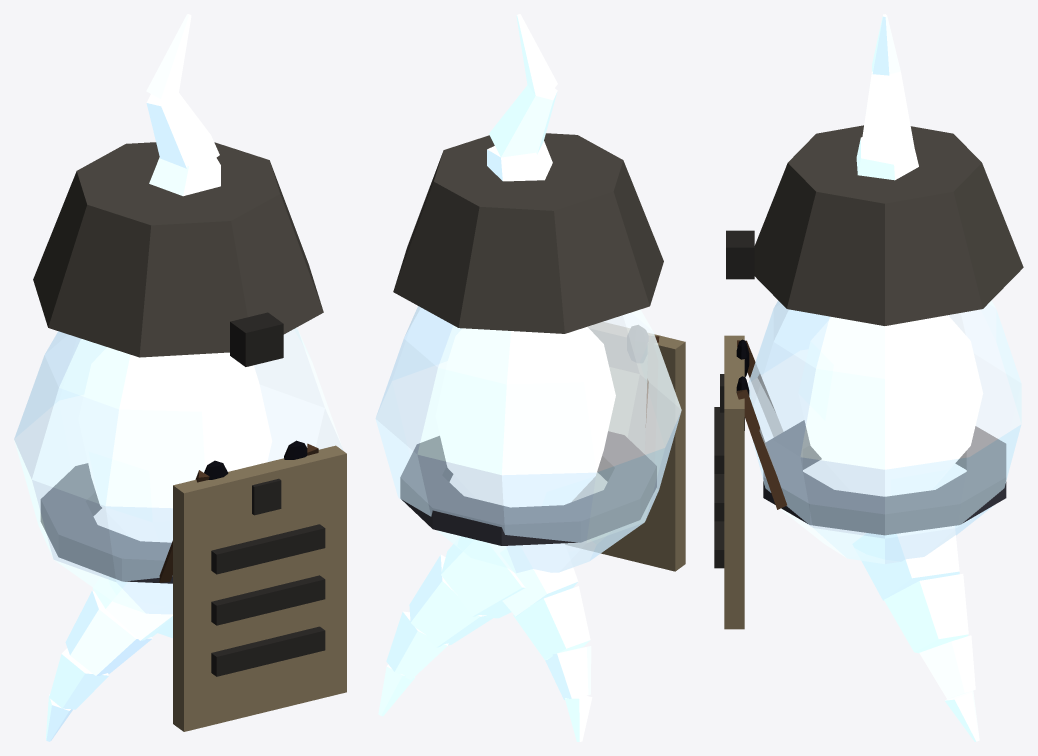
The model's file is soul_fresh_number.glb.
The picture shows the model from 3 angles, left to right: view 1: azimuth 30°, elevation 25°; view 2: azimuth 150°, elevation 25°; view 3: azimuth 270°, elevation 25°; orthographic projection. The views are drawn at different scales.
Visible parts, largest first — view 1: soul_fresh_number; view 2: soul_fresh_number; view 3: soul_fresh_number.
Boxes of the visible parts, x1,y1,x2,y2 form: soul_fresh_number: (14,14,346,741); soul_fresh_number: (375,14,685,741); soul_fresh_number: (714,14,1023,741).
Bounding box in the file's own units: 0.54 × 1.3 × 0.535.
